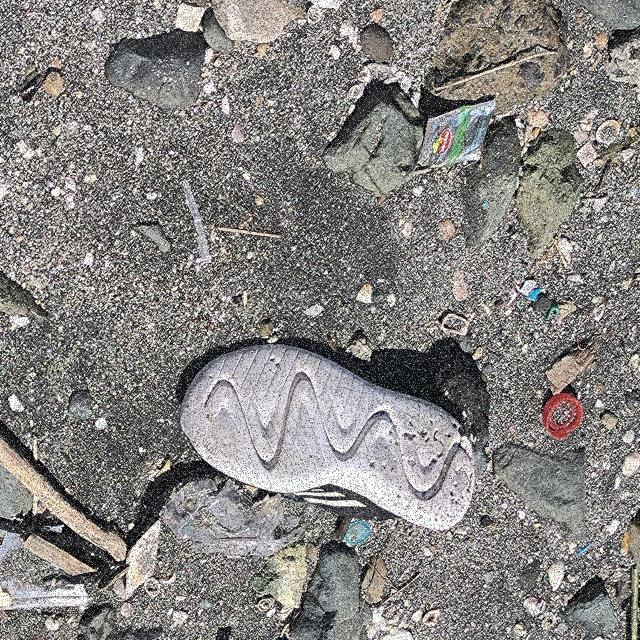plastic_waste: (419, 101, 497, 169), (544, 395, 583, 440)
rubber_waste: (181, 345, 476, 532)
